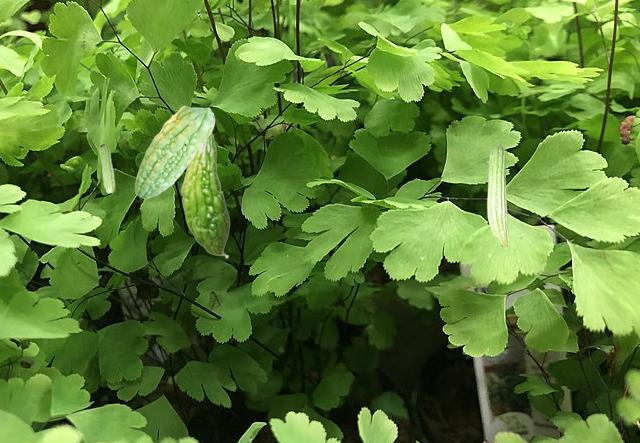ampalaya: (134, 105, 215, 199), (180, 112, 230, 258), (486, 141, 508, 247), (98, 143, 115, 193)
